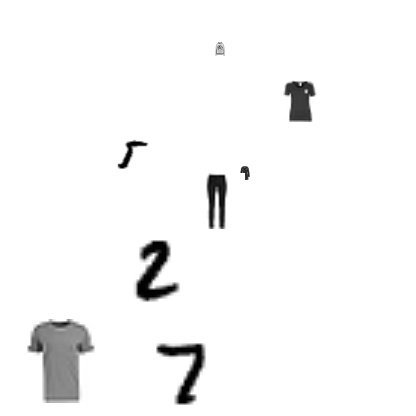2: (110, 229, 194, 313)
5: (109, 131, 151, 173)
7: (142, 326, 226, 410)
Coat: (238, 166, 252, 180)
Pullover: (213, 42, 227, 56)
T-shirt/top: (19, 319, 103, 403), (279, 80, 321, 122)
Trouser: (189, 173, 245, 229)
